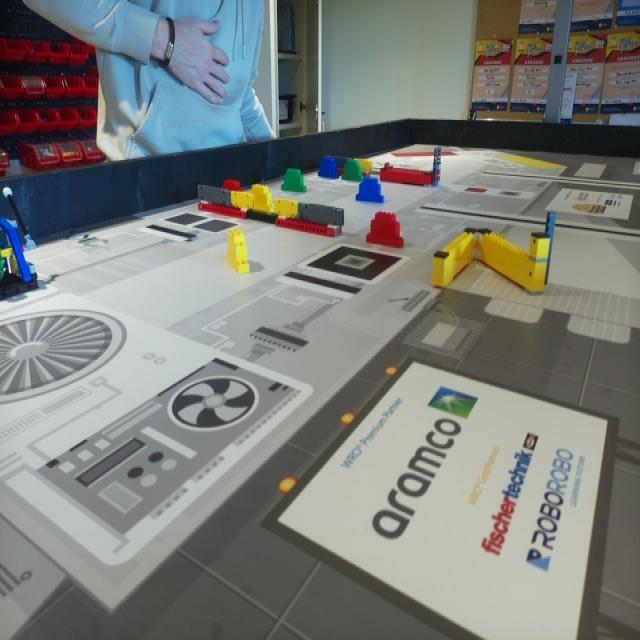blau: (358, 179, 381, 199), (321, 158, 337, 177)
gruen: (281, 168, 308, 195), (342, 159, 361, 183)
rot: (367, 210, 405, 250), (224, 181, 242, 192)
yellow: (225, 230, 253, 276), (251, 184, 272, 210)
